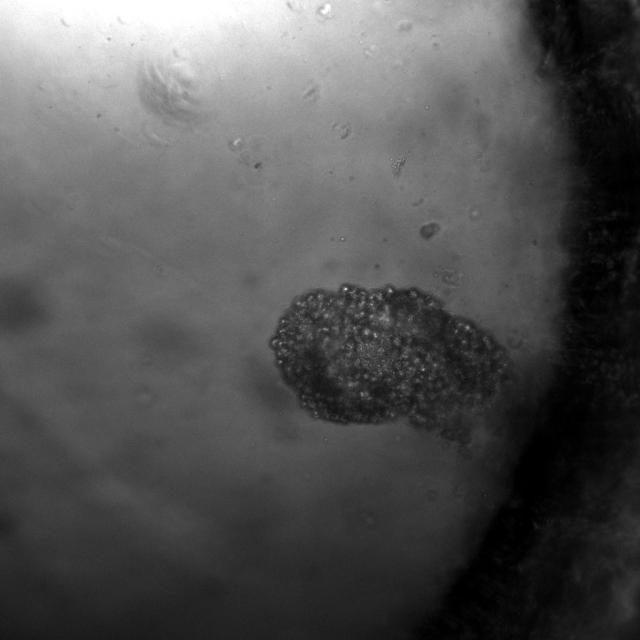organoid: (269, 284, 526, 438)
